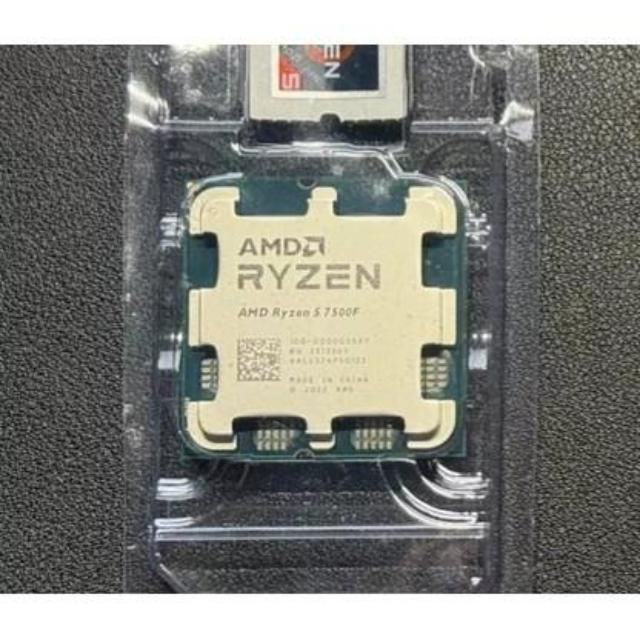CPU: (185, 178, 468, 454)
